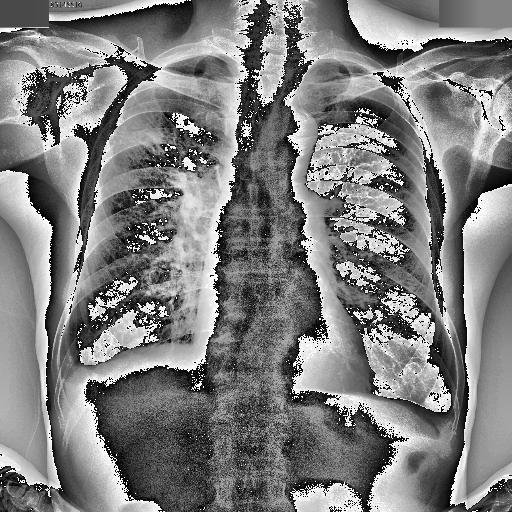0- Aortic enlargement: (260, 104, 320, 168)
10- Pleural effusion: (46, 323, 96, 402), (48, 344, 86, 406), (54, 342, 90, 404), (428, 391, 461, 441), (436, 398, 467, 438), (429, 412, 457, 440)
11- Pleural thickening: (46, 323, 96, 402), (428, 391, 461, 441), (429, 412, 457, 440)
13- Pulmonary fibrosis: (105, 108, 196, 196), (113, 106, 195, 168)
7- Lung Opacity: (105, 106, 165, 154), (120, 126, 164, 154)
